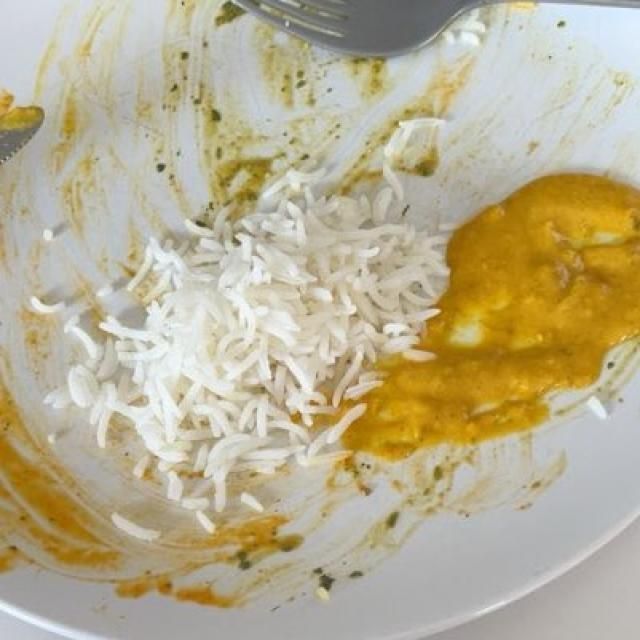rice: (84, 177, 452, 519)
sauce: (356, 184, 628, 456)
